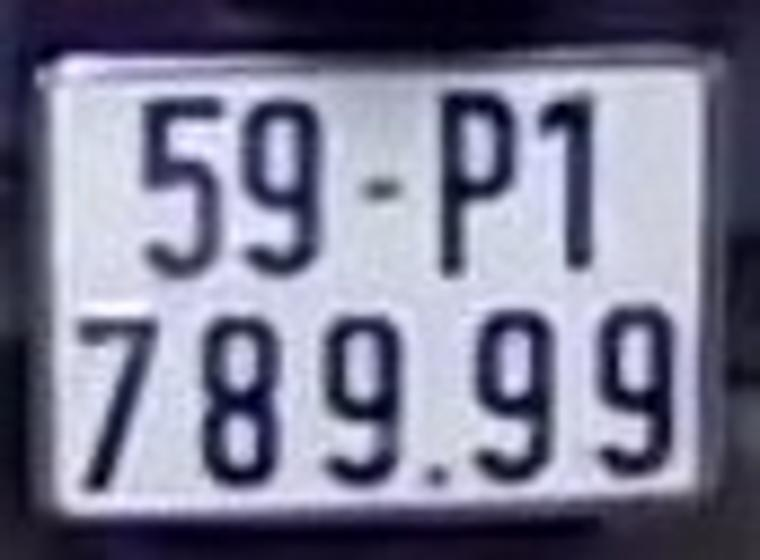-: (358, 177, 401, 198)
.: (425, 468, 445, 486)
1: (539, 91, 593, 267)
5: (143, 101, 214, 275)
7: (75, 316, 157, 491)
8: (199, 312, 283, 486)
9: (319, 315, 402, 485), (243, 95, 321, 273), (478, 311, 555, 483), (596, 303, 674, 472)
P: (437, 88, 517, 278)
